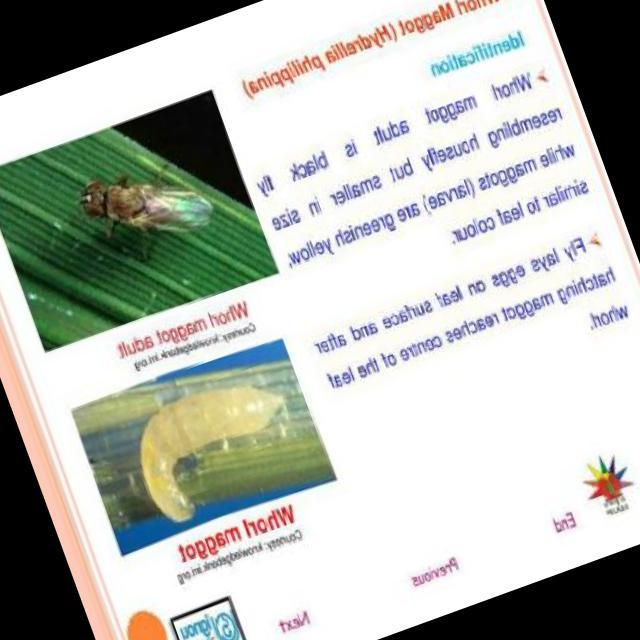whorl-maggot: (111, 355, 322, 536)
